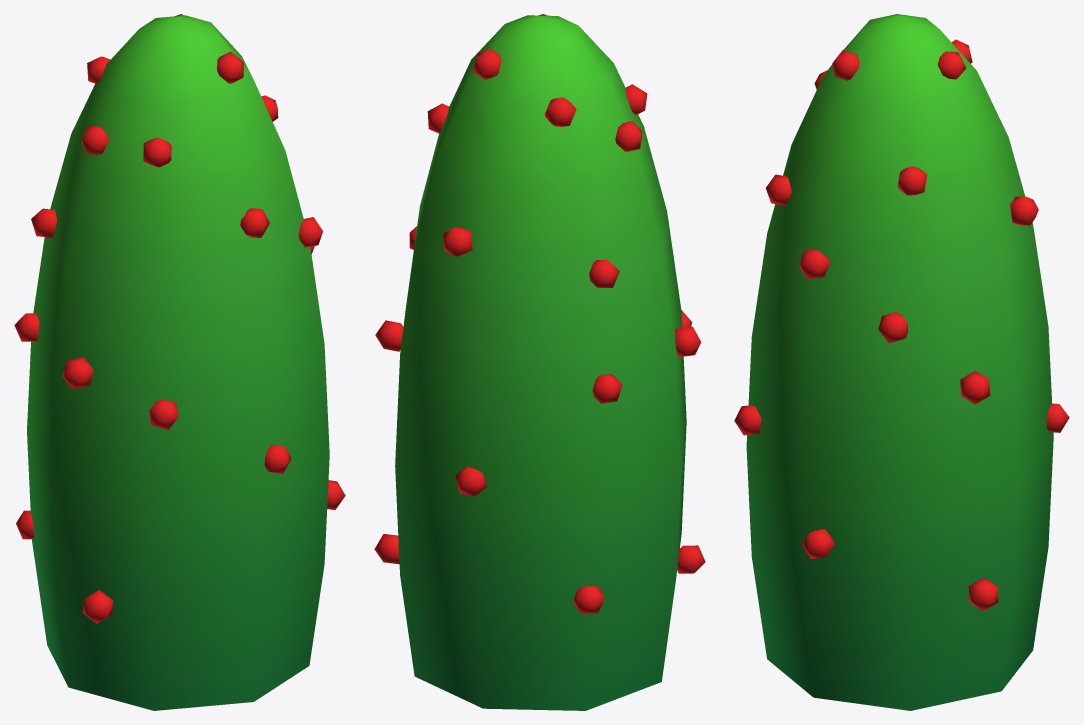
File: Bush_2_A_2.fbx
The picture shows the model from 3 angles, left to right: view 1: azimuth 30°, elevation 25°; view 2: azimuth 150°, elevation 25°; view 3: azimuth 270°, elevation 25°; orthographic projection.
Parts seen in each view (by area): view 1: Bush_2_A_2; view 2: Bush_2_A_2; view 3: Bush_2_A_2.
Part boxes in pixels (x1,y1,x2,y2): Bush_2_A_2: (14,14,345,710); Bush_2_A_2: (374,14,705,710); Bush_2_A_2: (734,14,1069,710).
Bounding box in the file's own units: 70.58 × 159 × 75.75.
